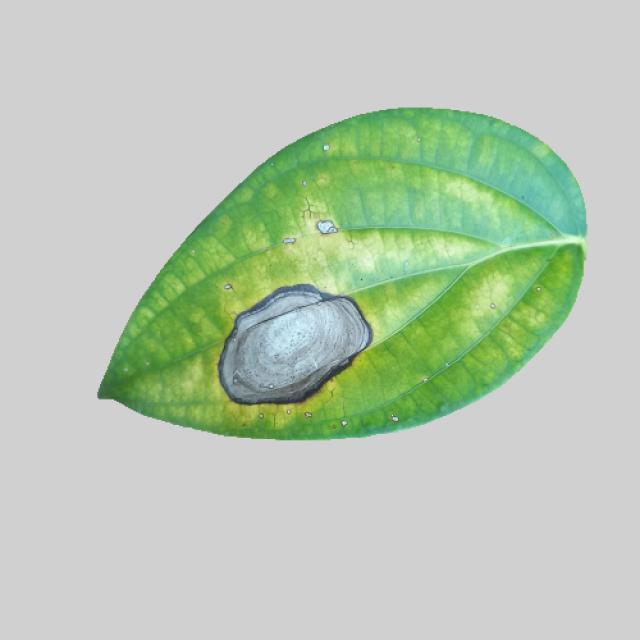leaf-blight: (89, 109, 596, 445)
